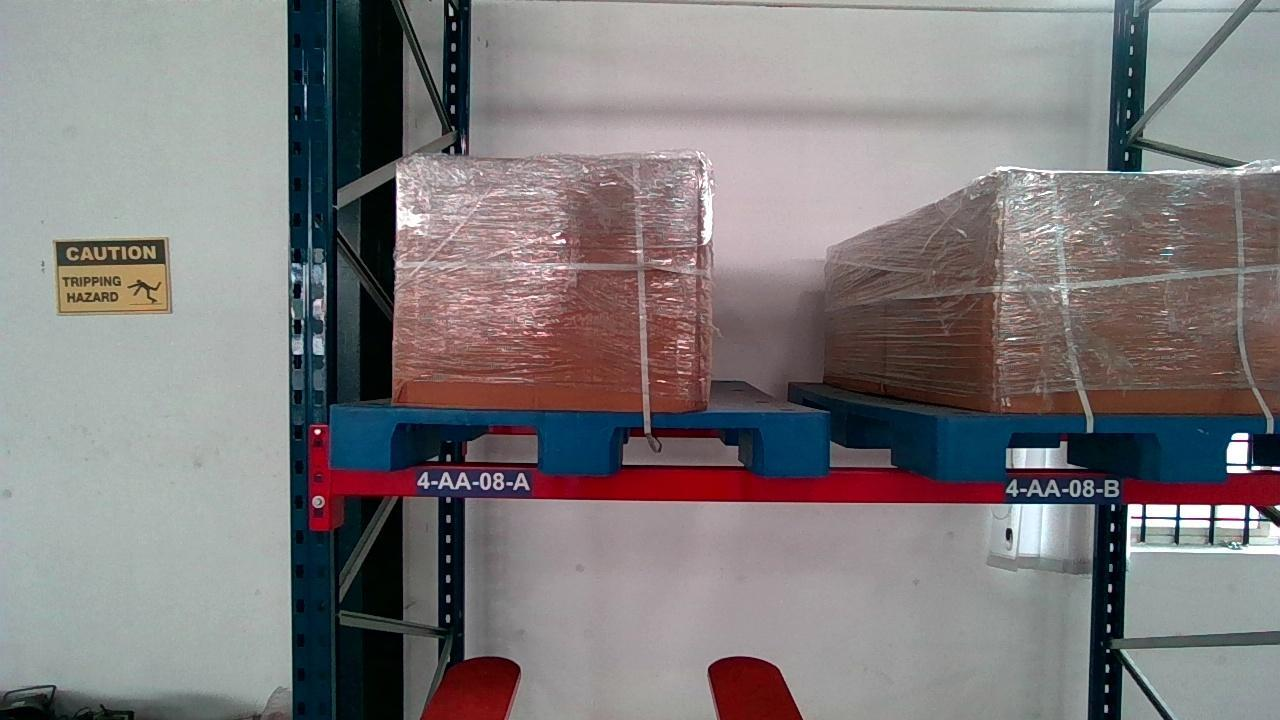h_rack: (326, 467, 1280, 502)
small_pallet: (328, 405, 835, 474), (953, 416, 1280, 474)
